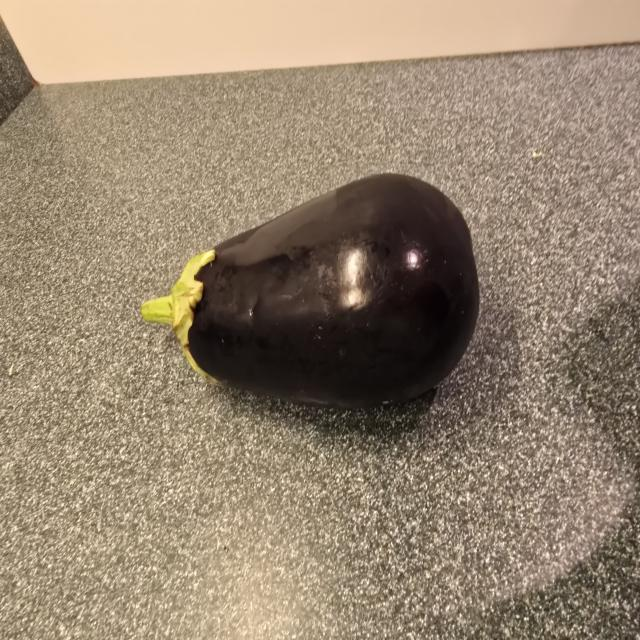Bell Pepper: (133, 166, 488, 422)
